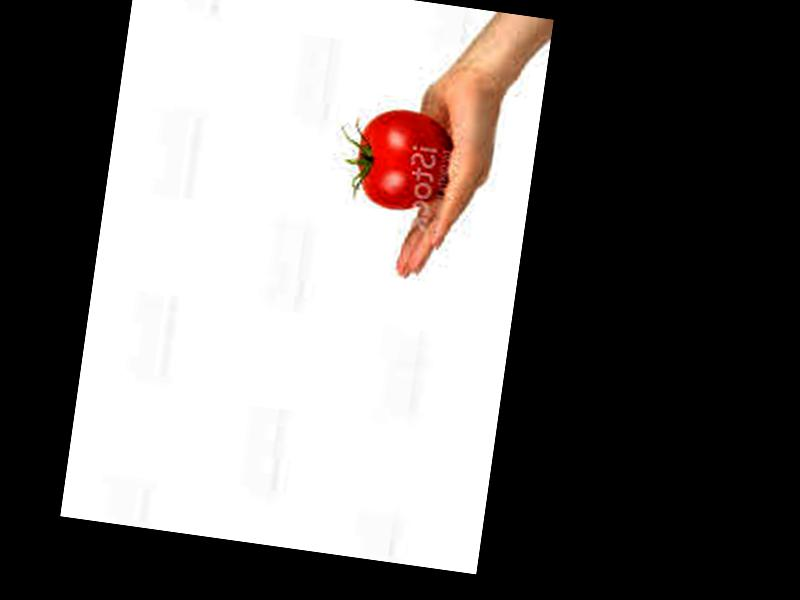Tomato: (350, 104, 454, 214)
